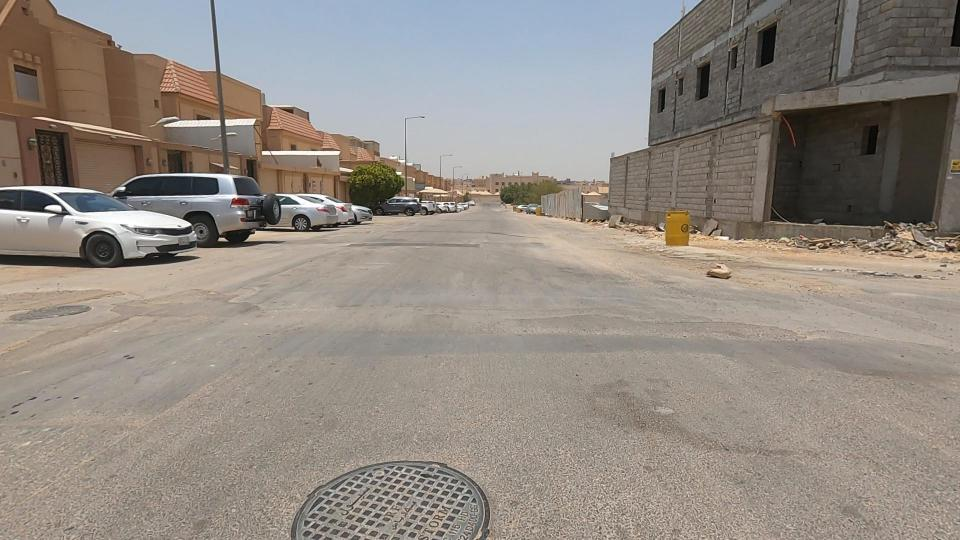GARBAGE: (848, 179, 960, 303), (732, 196, 880, 278), (686, 241, 760, 304), (585, 203, 661, 248)
